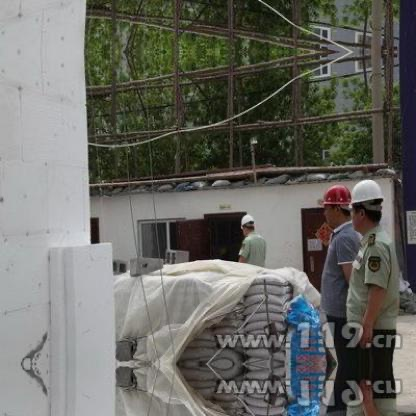Safety Helmet: (345, 173, 389, 244), (317, 182, 355, 233), (236, 212, 260, 239)
